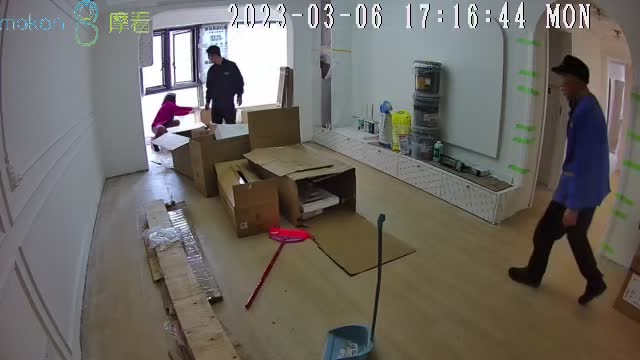people: (510, 56, 612, 309), (204, 45, 244, 125), (153, 93, 192, 140)
window: (141, 22, 291, 139)
